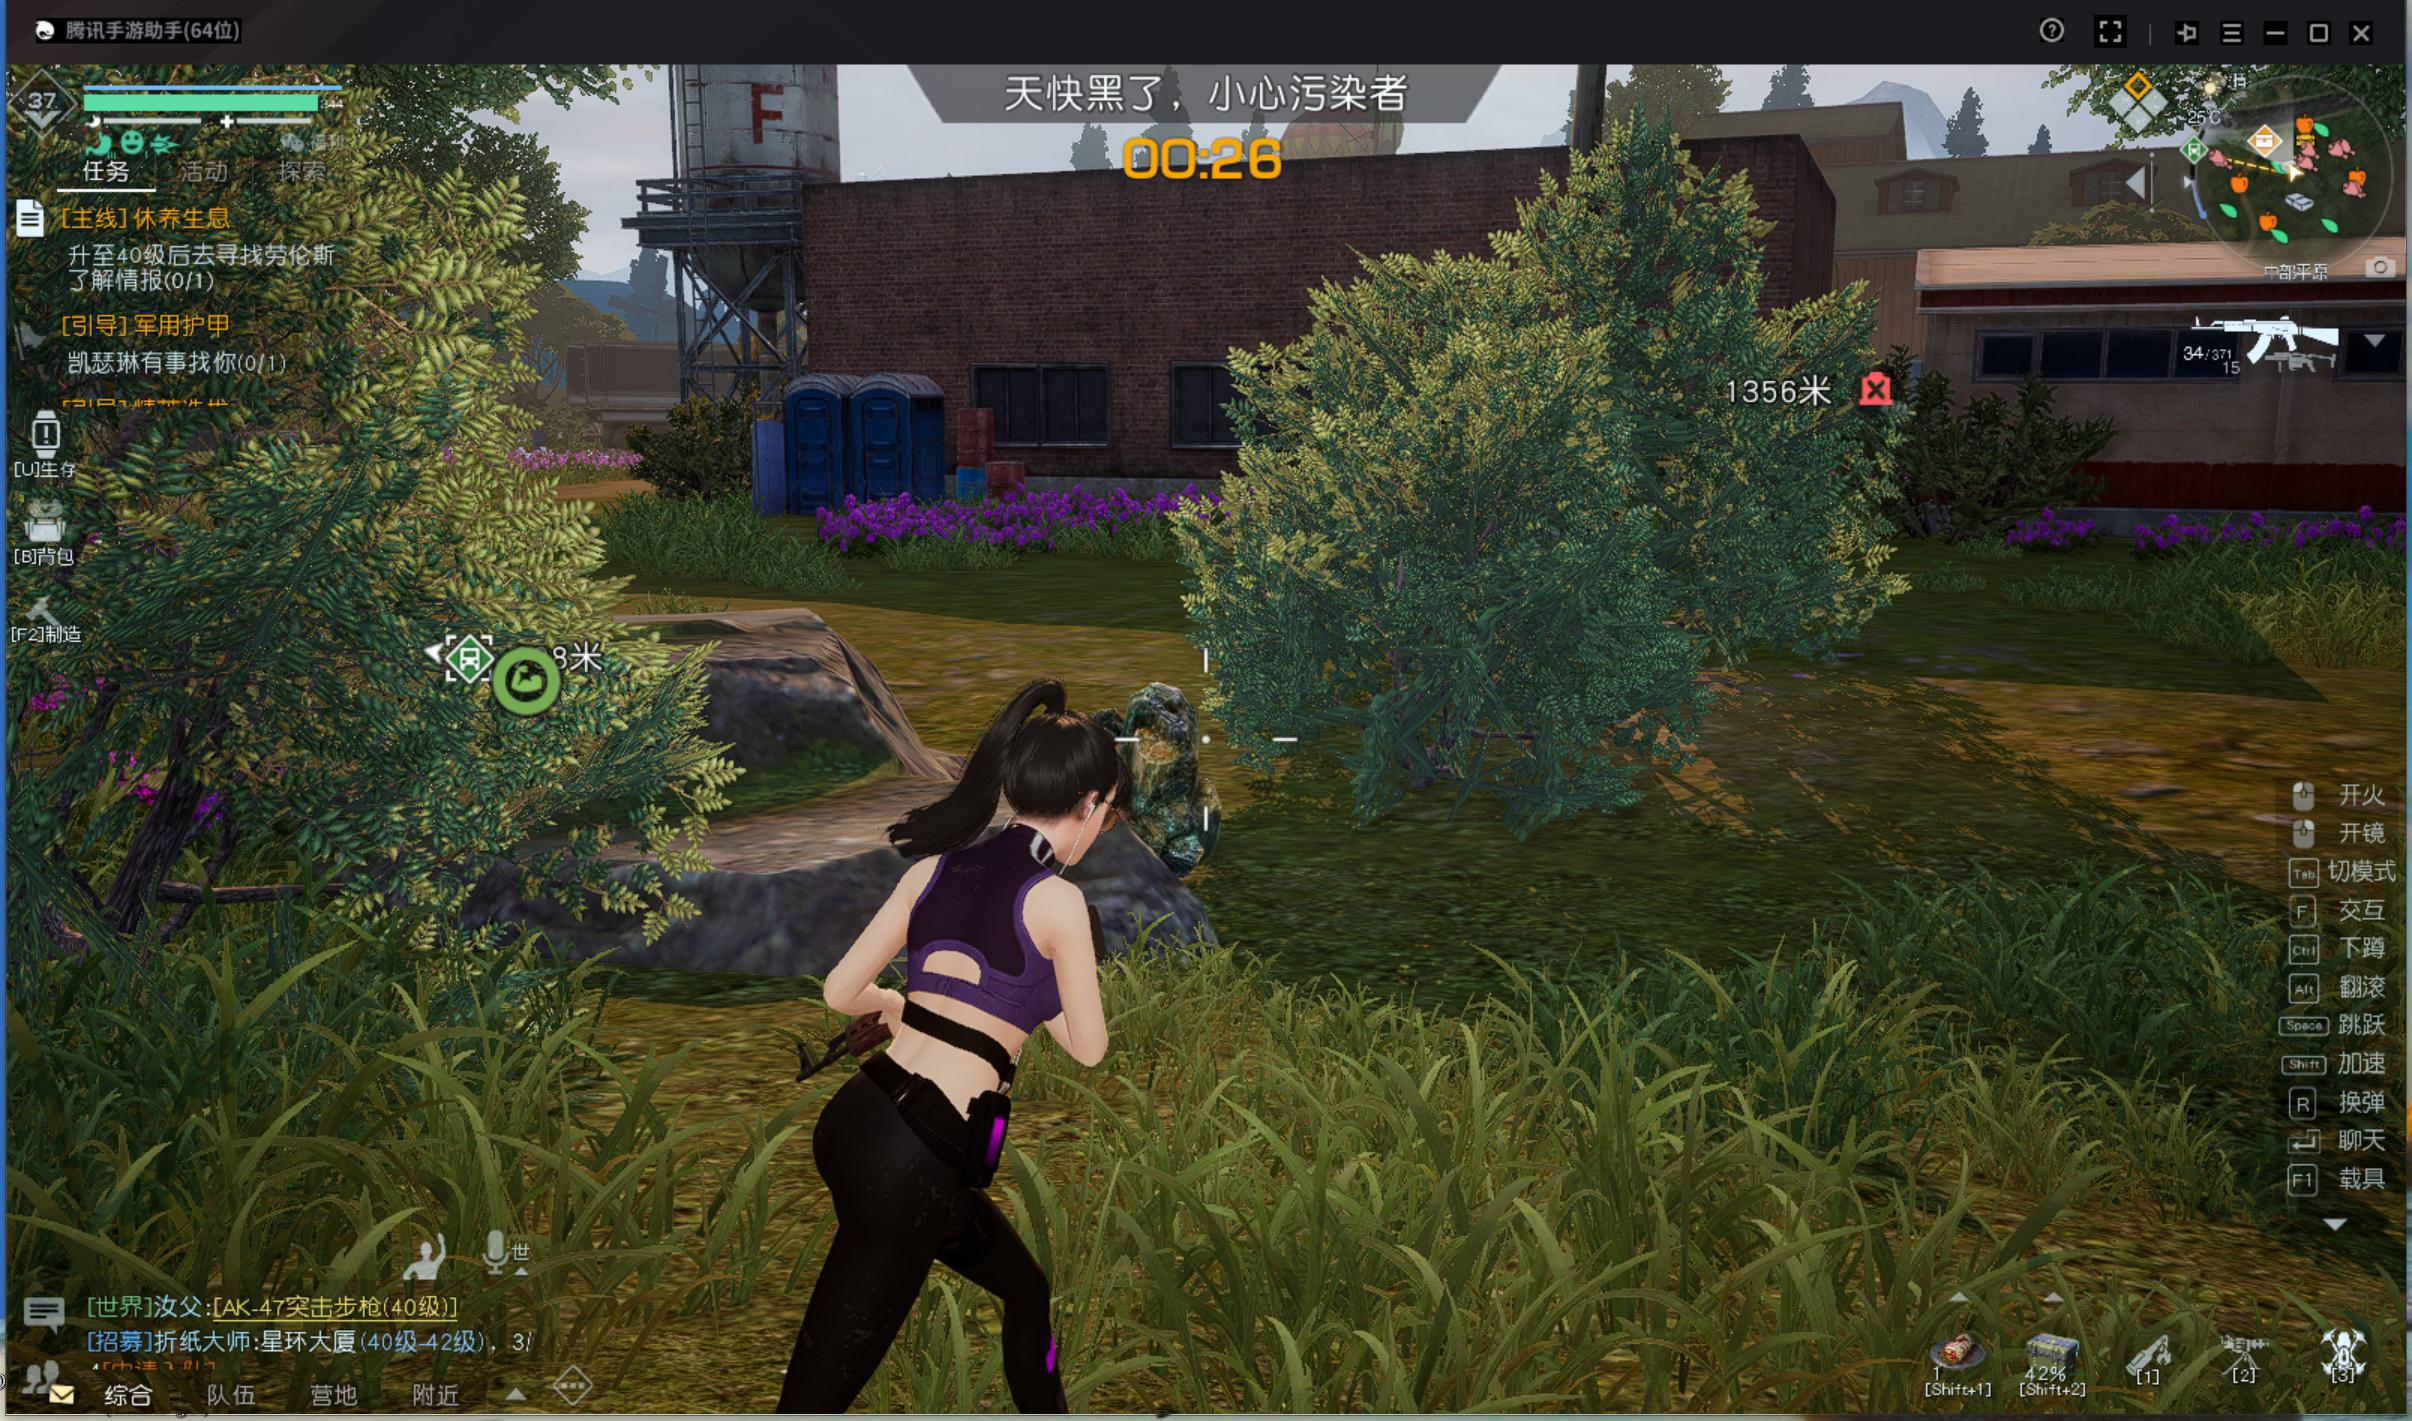stone: (1110, 677, 1252, 873)
